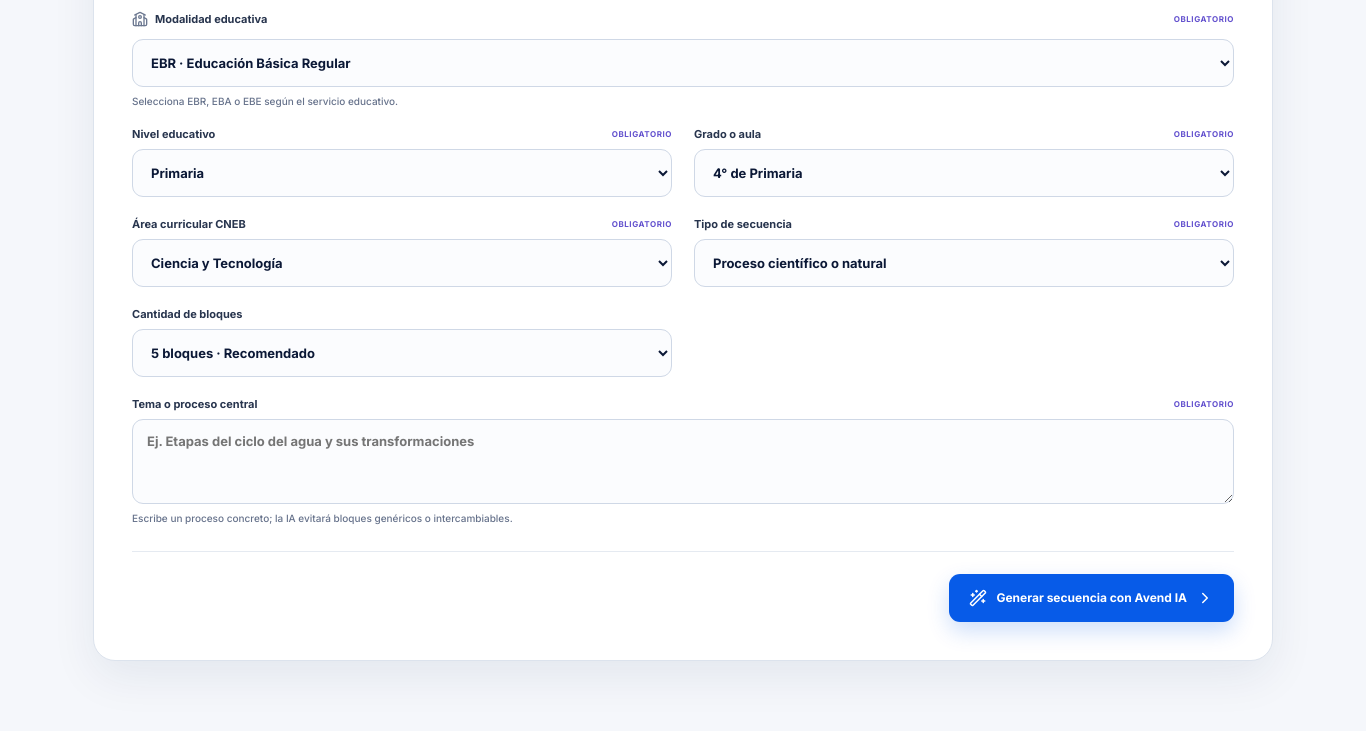
Test: SequenceOrderingTool › generates, reviews and starts the ordering activity
(page scrolled)
Step 1. Type "El ciclo del agua" into the text box labelled "Tema o proceso central" → {"x": 683, "y": 461}, box [132, 419, 1234, 504]
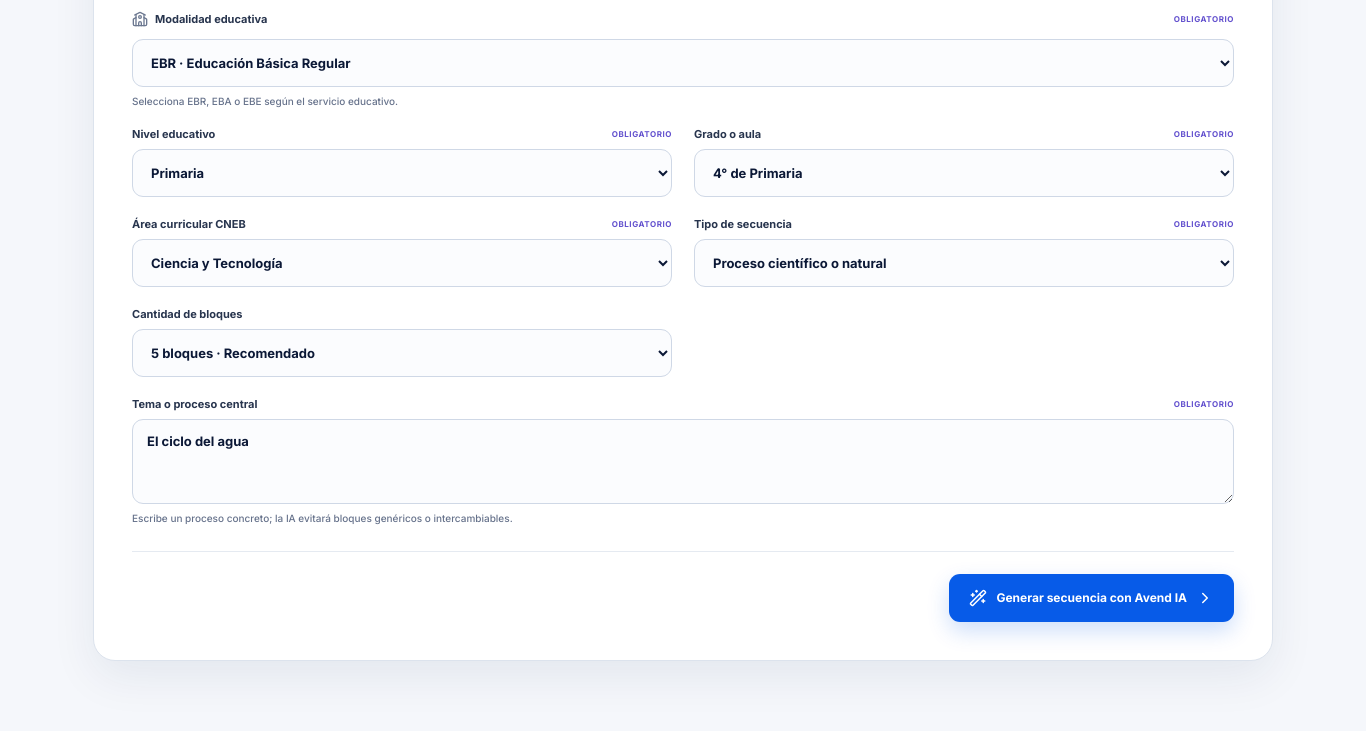
Step 2. Select "4 bloques · Inicio o primaria baja" in the dropdown labelled "Cantidad de bloques" → {"x": 402, "y": 353}, box [132, 329, 672, 377]
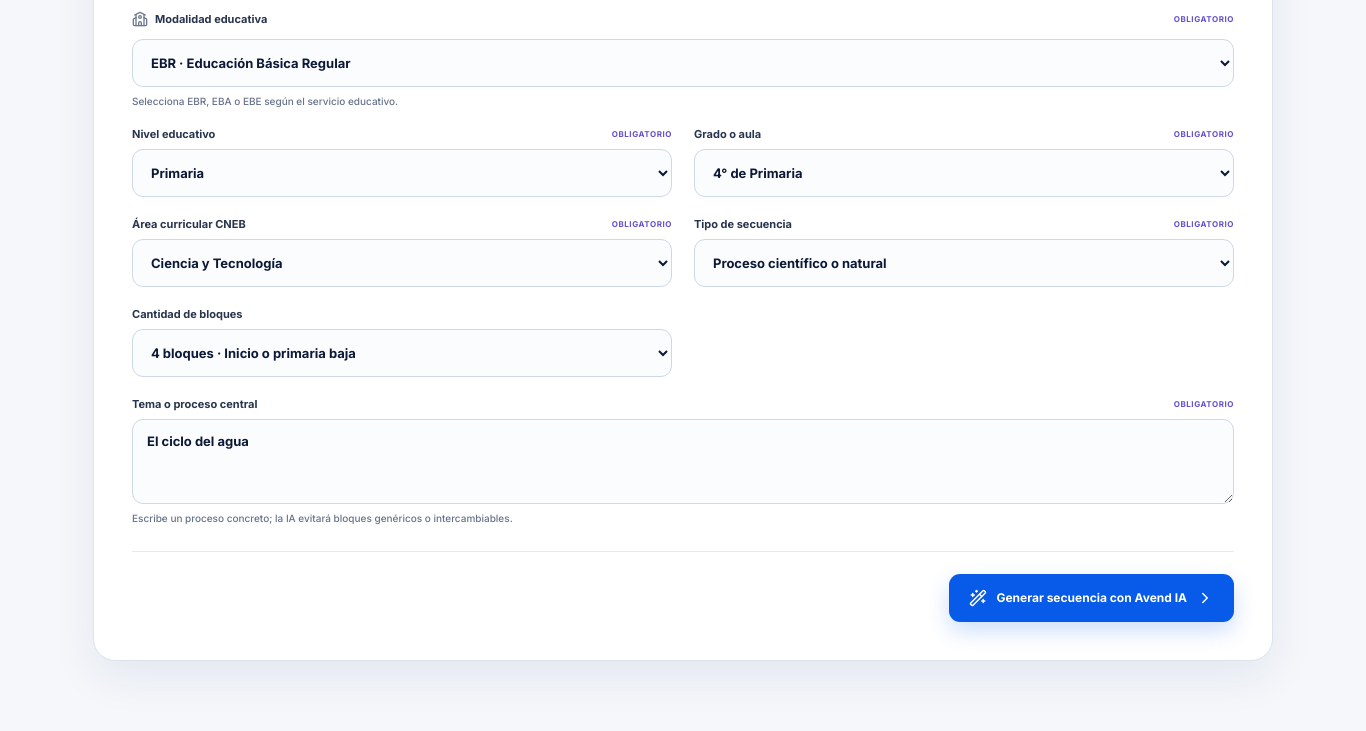
Step 3. Click the button "Generar secuencia con Avend IA" → {"x": 1092, "y": 598}, box [950, 574, 1234, 622]
(page scrolled)
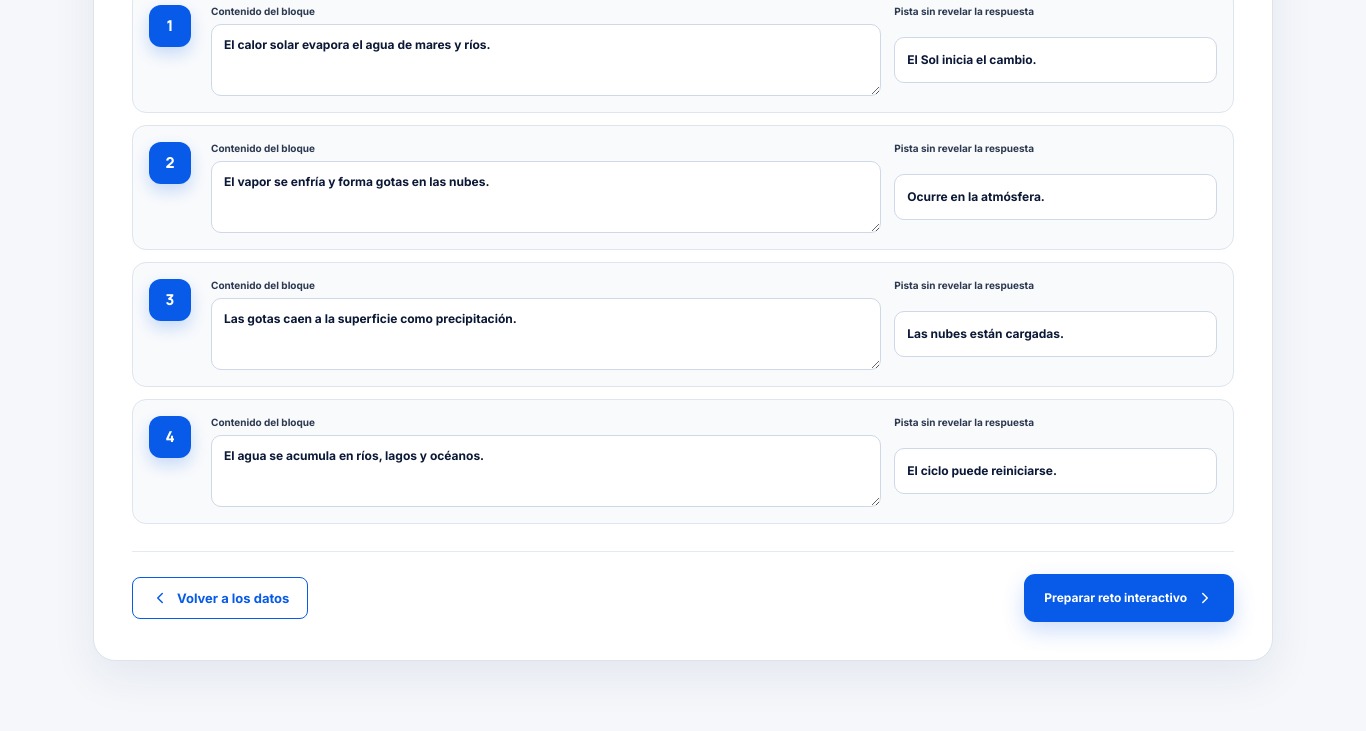
Step 4. Click the button "Preparar reto interactivo" → {"x": 1129, "y": 598}, box [1024, 574, 1234, 622]
(page scrolled)
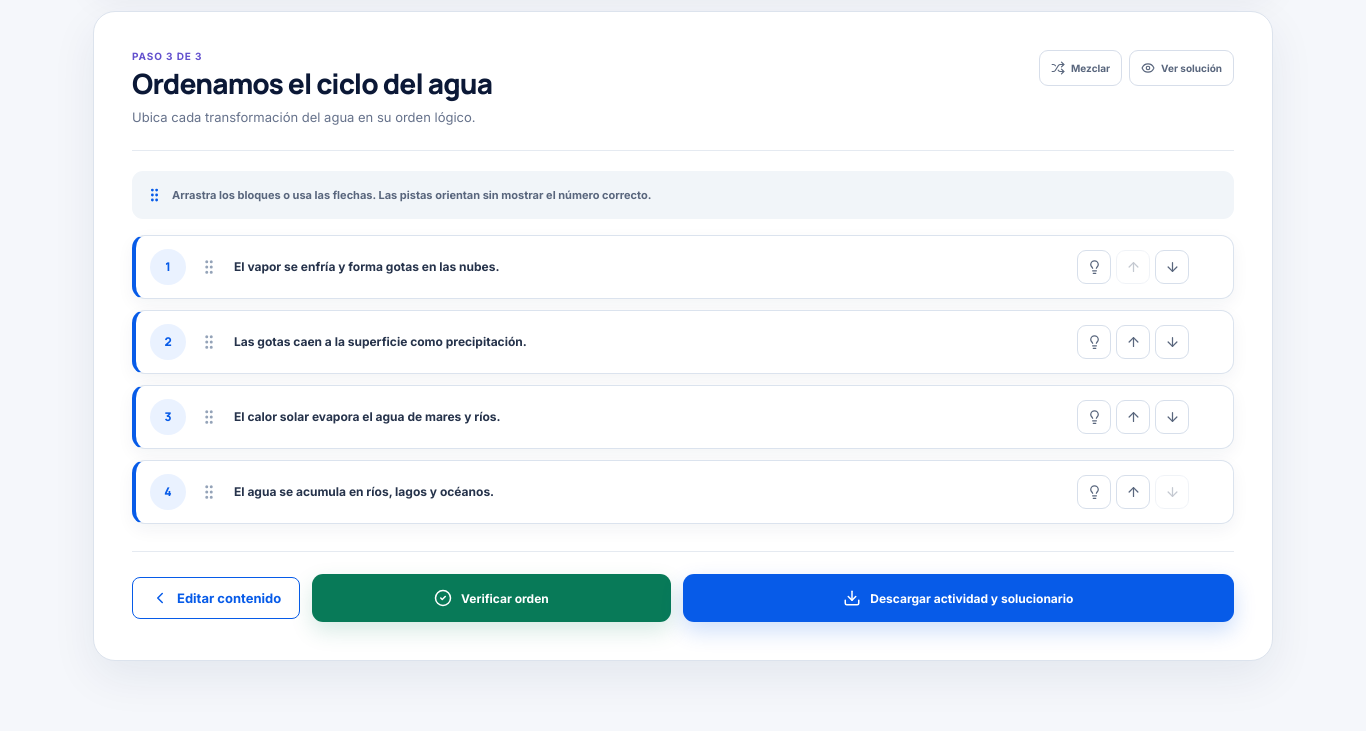
Result: the heading "Ordenamos el ciclo del agua" is shown at [132, 67, 492, 100]
Result: the text "El calor solar evapora el agua de mares y ríos." is shown at [234, 409, 500, 424]
Step 5. Click the button "Verificar orden" → {"x": 492, "y": 598}, box [312, 574, 671, 622]
(page scrolled)
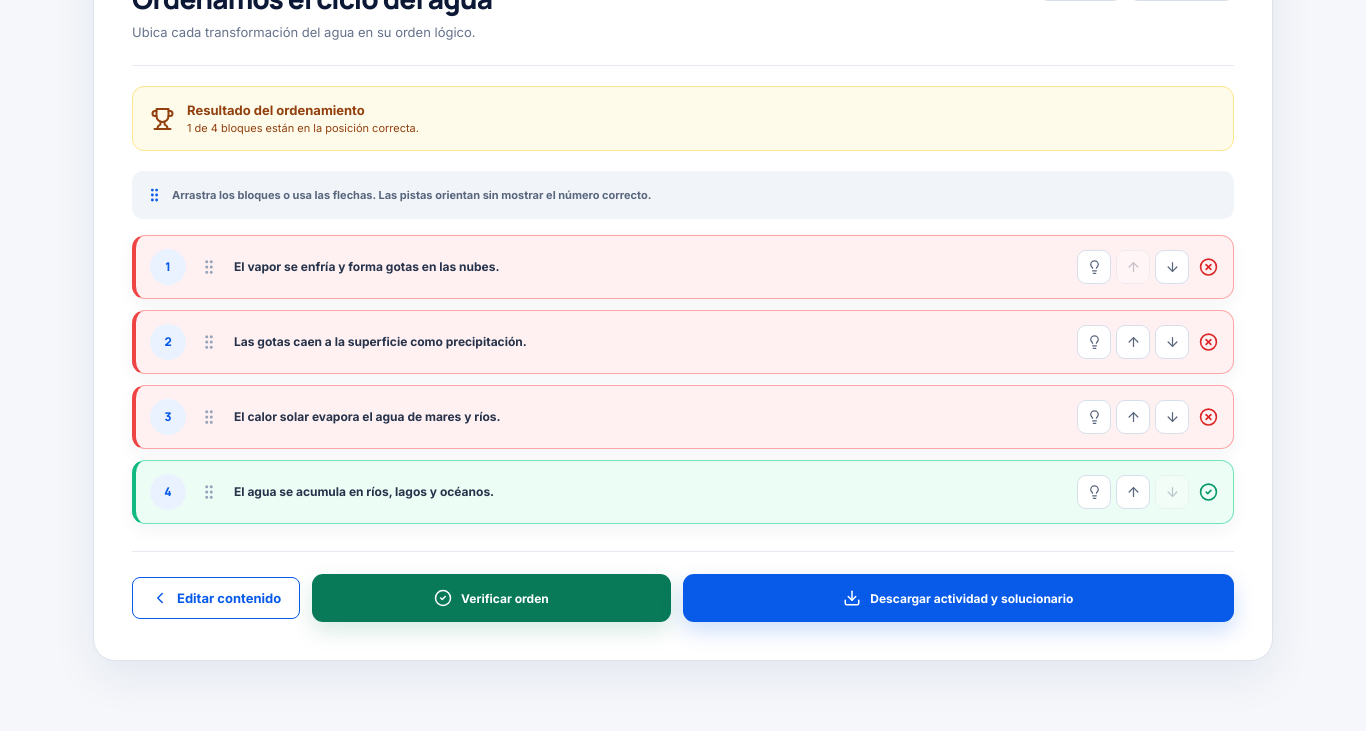
Result: the message shows "bloques están en la posición correcta" at [218, 121, 419, 135]
